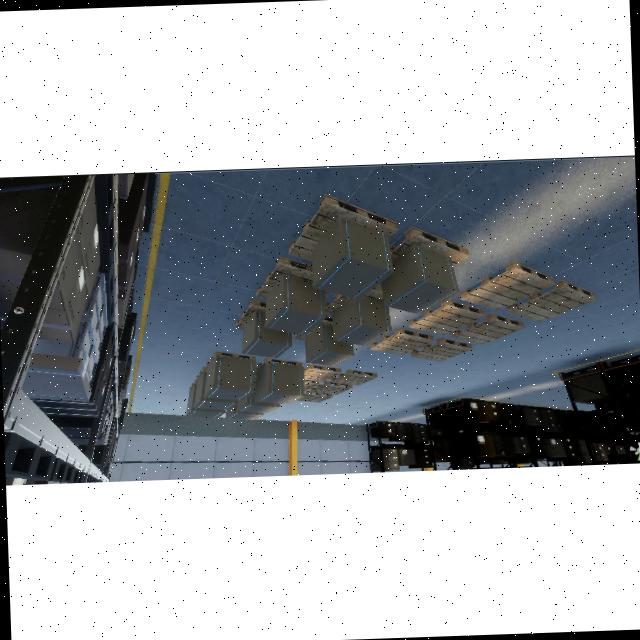wooden_pallet: (287, 194, 397, 262), (458, 261, 555, 311), (505, 278, 597, 324), (389, 226, 470, 270), (408, 300, 484, 335), (256, 253, 312, 299), (452, 313, 523, 345), (370, 328, 434, 356), (411, 338, 472, 362), (233, 298, 266, 332), (205, 351, 256, 371), (255, 357, 303, 377), (331, 368, 378, 386), (303, 364, 341, 383), (311, 381, 352, 395), (296, 391, 332, 403), (303, 379, 318, 392)
